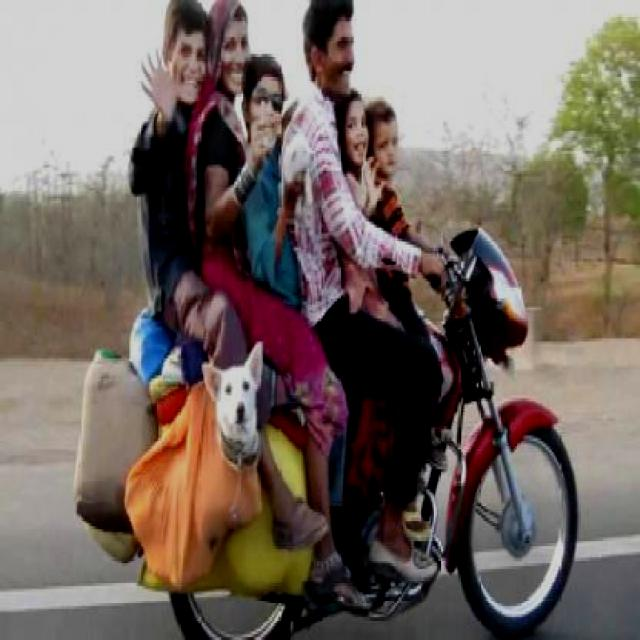Without Helmet: (292, 0, 363, 114), (162, 0, 208, 111), (208, 0, 250, 100), (240, 51, 282, 148), (337, 88, 369, 174), (368, 92, 398, 176)
